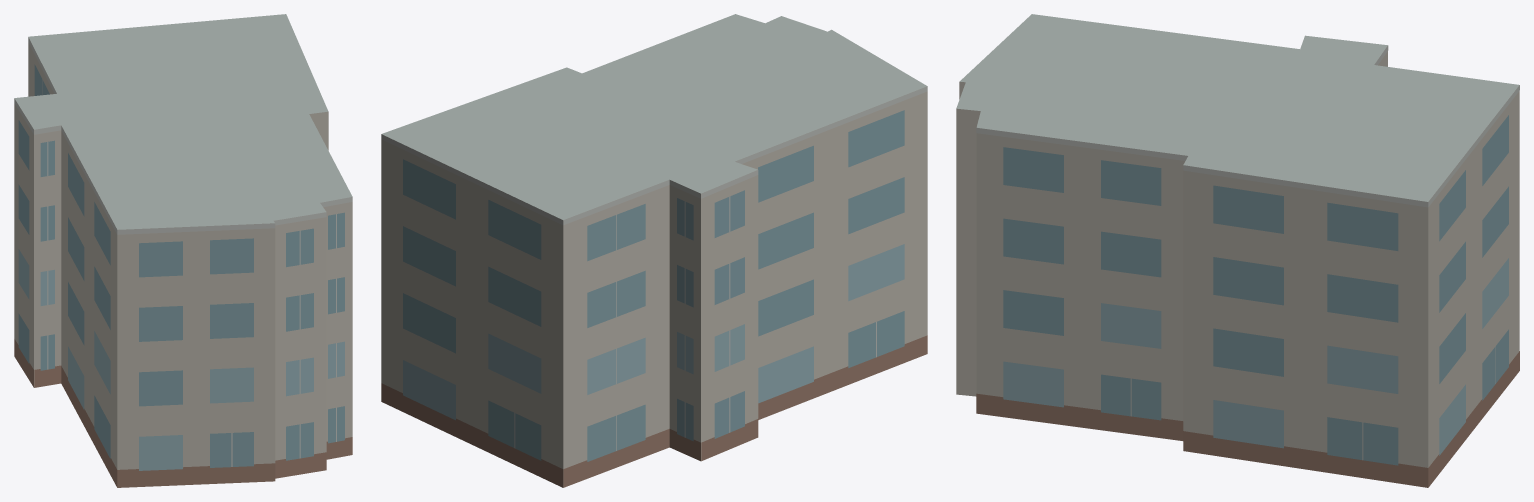
File: survey-upis-32876775.glb
3 views of the same model, side by side, from view 1: azimuth 30°, elevation 25°; view 2: azimuth 150°, elevation 25°; view 3: azimuth 270°, elevation 25° (orthographic). The views are drawn at different scales.
Visible parts, largest first — view 1: survey-upis-32876775.tmp; view 2: survey-upis-32876775.tmp; view 3: survey-upis-32876775.tmp.
Part boxes in pixels (x1,y1,x2,y2): survey-upis-32876775.tmp: [14, 14, 352, 487]; survey-upis-32876775.tmp: [381, 14, 927, 487]; survey-upis-32876775.tmp: [956, 14, 1519, 487].
Bounding box in the file's own units: 17.78 × 12.6 × 22.52.
